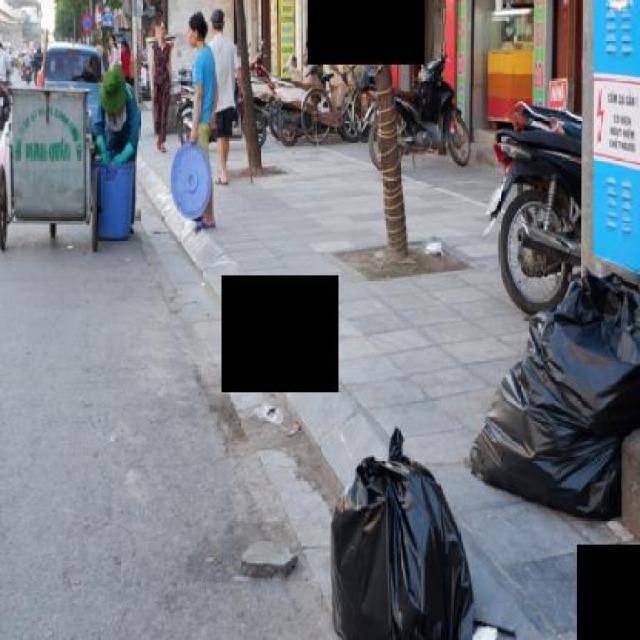plastic bag: (474, 302, 638, 522), (328, 431, 480, 637)
